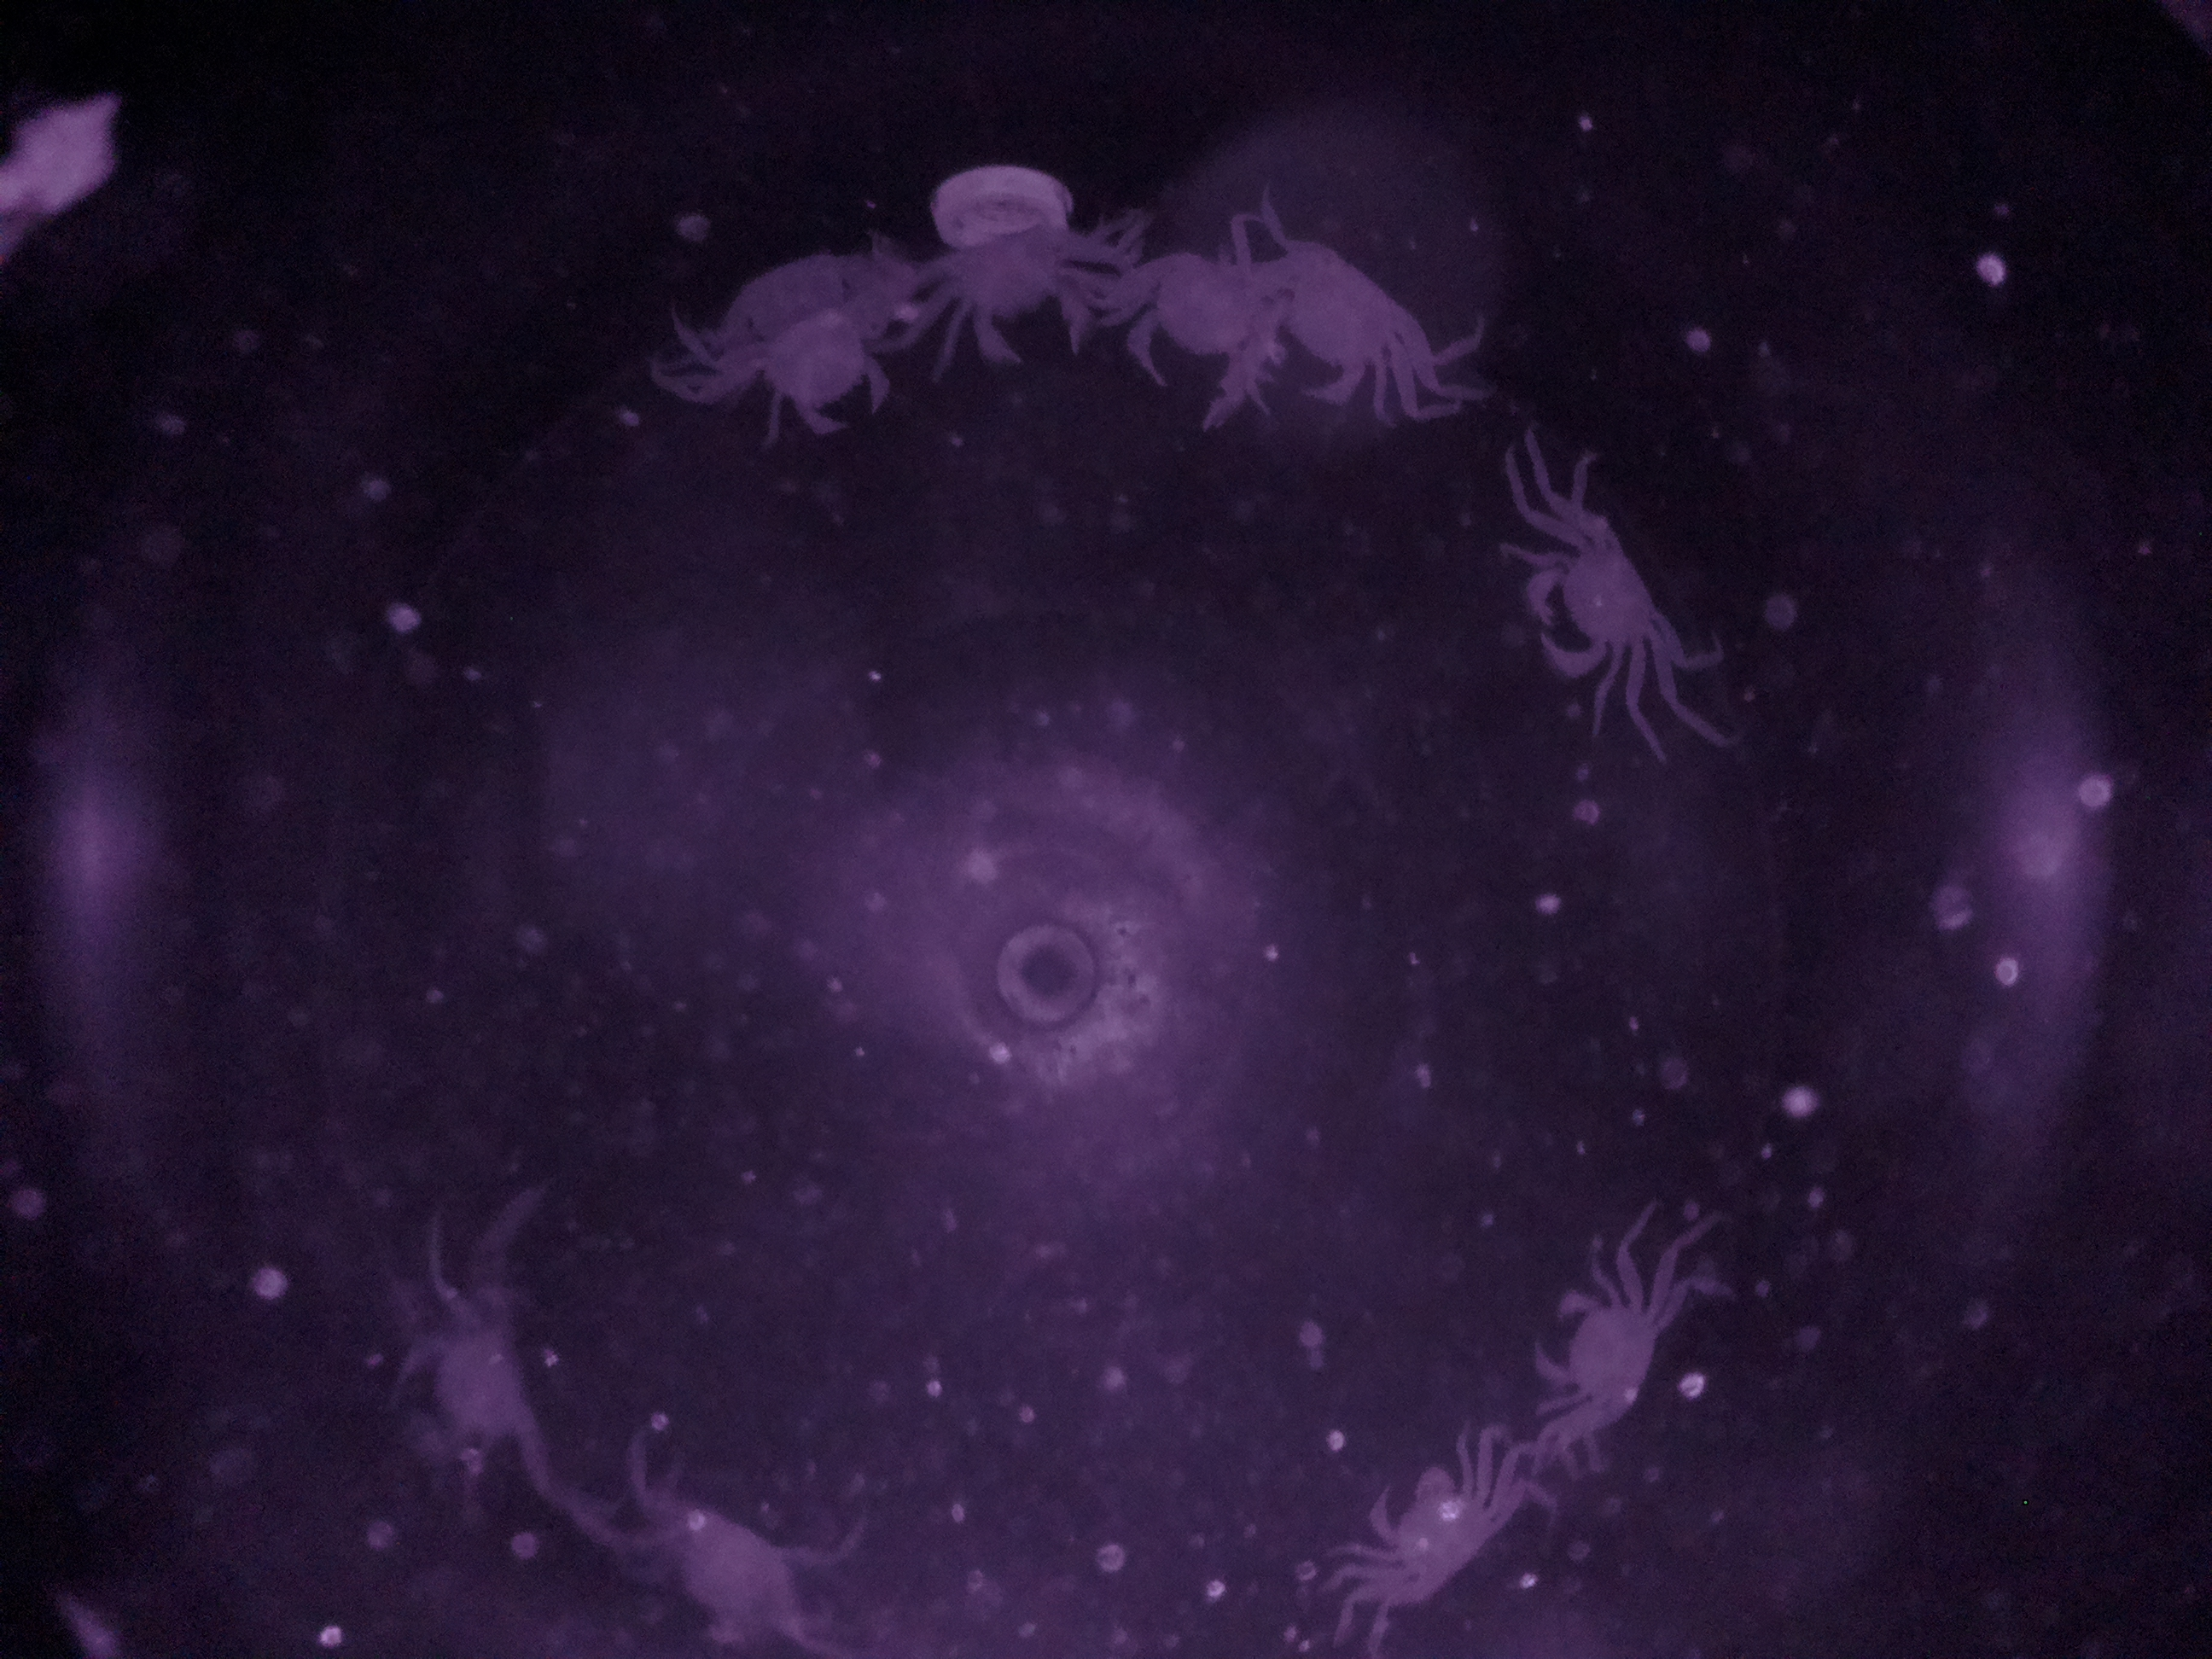Crab: (1493, 488, 1677, 718), (1524, 1244, 1698, 1466), (1343, 1427, 1519, 1638)
